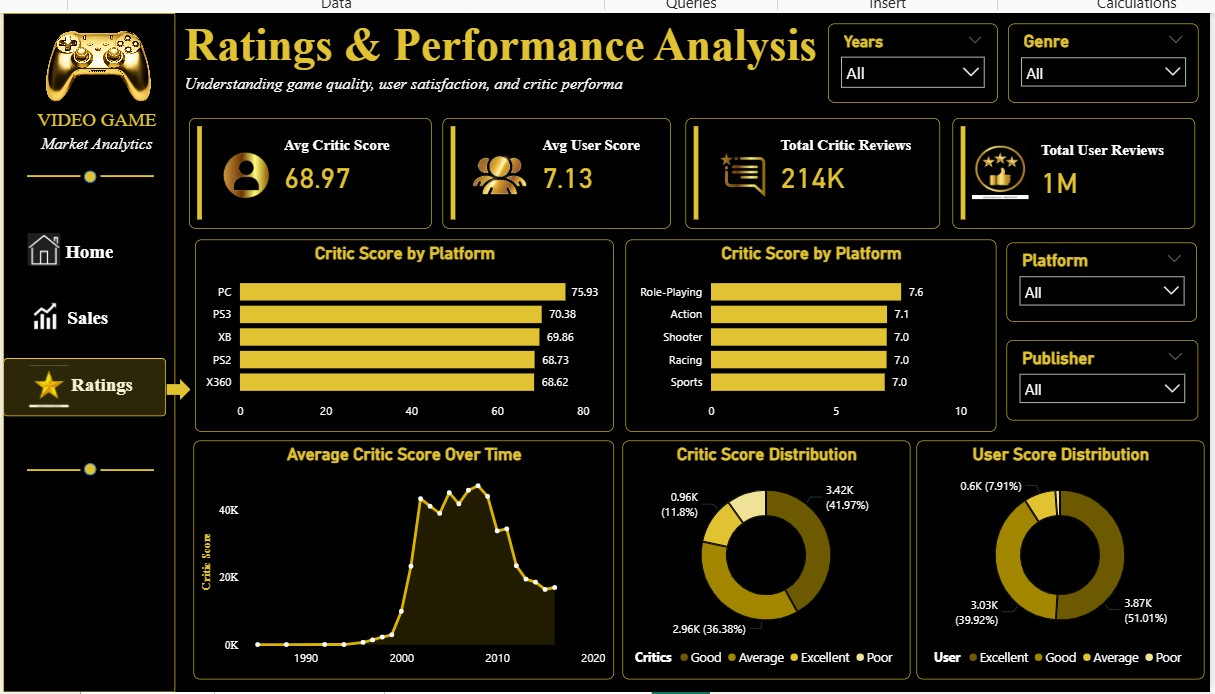

This screenshot's page, from the dashboard's own definition file:
{"tool":"powerbi","page":{"name":"Ratings and Performance","canvas":[1280,720],"ordinal":2},"visuals":[{"type":"shape","box":[0,0,182.9,720.5],"z":0},{"type":"shape","title":"Ratings & Performance Analysis","box":[192.5,6.4,858.9,109.8],"z":1000},{"type":"image","box":[19.1,0,163.8,114.5],"z":2000},{"type":"textbox","title":"VIDEO GAME","box":[15.9,101.8,167,74.8],"z":3000},{"type":"shape","box":[25.5,160.7,56.7,24.6],"z":4000},{"type":"shape","box":[85.9,166.3,13.2,13.2],"z":5000},{"type":"shape","box":[102.9,160.7,56.7,24.6],"z":6000},{"type":"actionButton","box":[12.7,227.5,157.5,52.5],"z":7000},{"type":"actionButton","box":[22.3,364.2,157.5,60],"z":8000},{"type":"shape","box":[173.4,388.1,25.4,22.3],"z":9000},{"type":"actionButton","box":[11.1,297.4,157.5,52.5],"z":10000},{"type":"shape","box":[0,365.8,173,62],"z":11000},{"type":"shape","box":[25.5,472.3,56.7,24.6],"z":12000},{"type":"shape","box":[86,477.9,13.2,13.2],"z":13000},{"type":"shape","box":[103,472.3,56.7,24.6],"z":14000},{"type":"slicer","fields":{"Values":["cleaned_data.Genre"]},"box":[1065.7,11.1,202,84.3],"z":15000},{"type":"slicer","fields":{"Values":["cleaned_data.Year_of_Release"]},"box":[874.8,11.1,179.7,84.3],"z":16000},{"type":"cardVisual","fields":{"Data":["Avg(cleaned_data.Critic_Score)"]},"box":[196.5,111.5,257,117.2],"z":17000},{"type":"cardVisual","fields":{"Data":["Avg(cleaned_data.User_Score)"]},"box":[466.8,111.5,241.9,117.2],"z":18000},{"type":"cardVisual","fields":{"Data":["Sum(cleaned_data.Critic_Count)"]},"box":[723.8,111.5,270.2,117.2],"z":19000},{"type":"cardVisual","fields":{"Data":["Sum(cleaned_data.User_Count)"]},"box":[1007.3,111.5,257,117.2],"z":20000}]}

Visuals, with their boxes on the page's 1280x720 design canvas (x1, y1, x2, y2). These are canvas units, not pixel positions in the 1215x694 screenshot, which may show the page scaled, cropped or inside an application window:
shape: [x1=0, y1=0, x2=183, y2=720]
"Ratings & Performance Analysis" shape: [x1=192, y1=6, x2=1051, y2=116]
image: [x1=19, y1=0, x2=183, y2=114]
"VIDEO GAME" textbox: [x1=16, y1=102, x2=183, y2=177]
shape: [x1=26, y1=161, x2=82, y2=185]
shape: [x1=86, y1=166, x2=99, y2=180]
shape: [x1=103, y1=161, x2=160, y2=185]
actionButton: [x1=13, y1=228, x2=170, y2=280]
actionButton: [x1=22, y1=364, x2=180, y2=424]
shape: [x1=173, y1=388, x2=199, y2=410]
actionButton: [x1=11, y1=297, x2=169, y2=350]
shape: [x1=0, y1=366, x2=173, y2=428]
shape: [x1=26, y1=472, x2=82, y2=497]
shape: [x1=86, y1=478, x2=99, y2=491]
shape: [x1=103, y1=472, x2=160, y2=497]
slicer - cleaned_data.Genre: [x1=1066, y1=11, x2=1268, y2=95]
slicer - cleaned_data.Year_of_Release: [x1=875, y1=11, x2=1054, y2=95]
cardVisual - Avg(cleaned_data.Critic_Score): [x1=196, y1=112, x2=454, y2=229]
cardVisual - Avg(cleaned_data.User_Score): [x1=467, y1=112, x2=709, y2=229]
cardVisual - Sum(cleaned_data.Critic_Count): [x1=724, y1=112, x2=994, y2=229]
cardVisual - Sum(cleaned_data.User_Count): [x1=1007, y1=112, x2=1264, y2=229]
